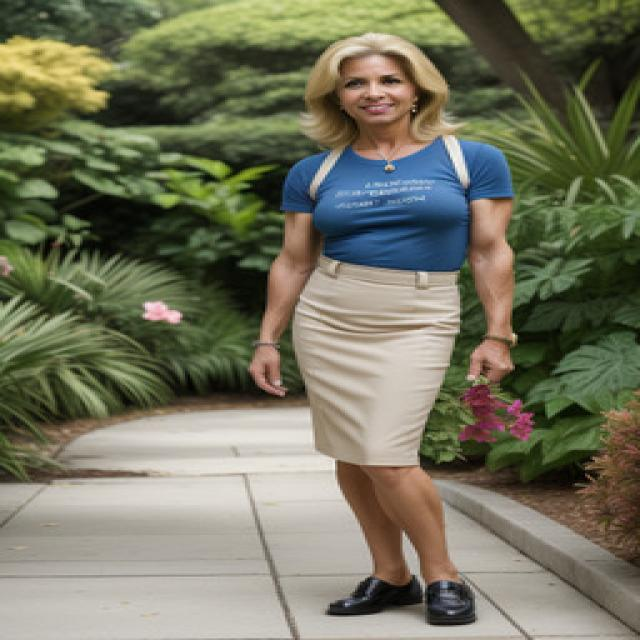Ai human 2: (234, 16, 549, 634)
